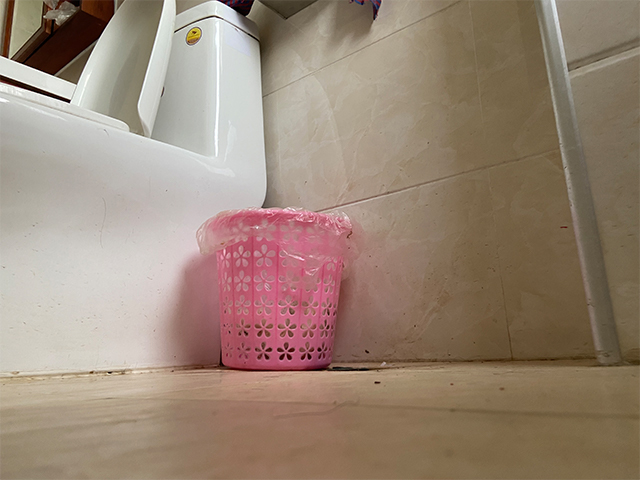closestool: (1, 1, 268, 380)
trashcan: (195, 206, 356, 372)
